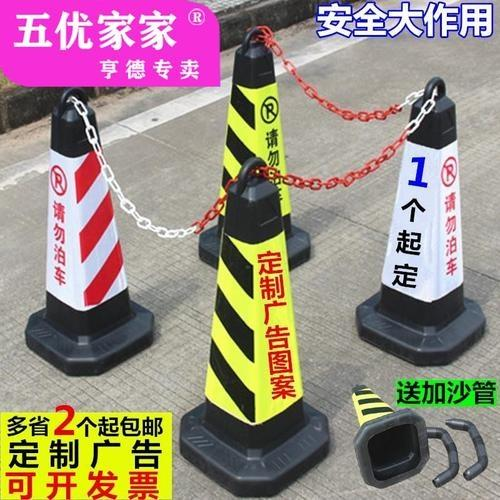cone_barrel: (176, 153, 328, 479), (354, 72, 486, 352), (22, 92, 155, 368), (197, 35, 304, 254)
